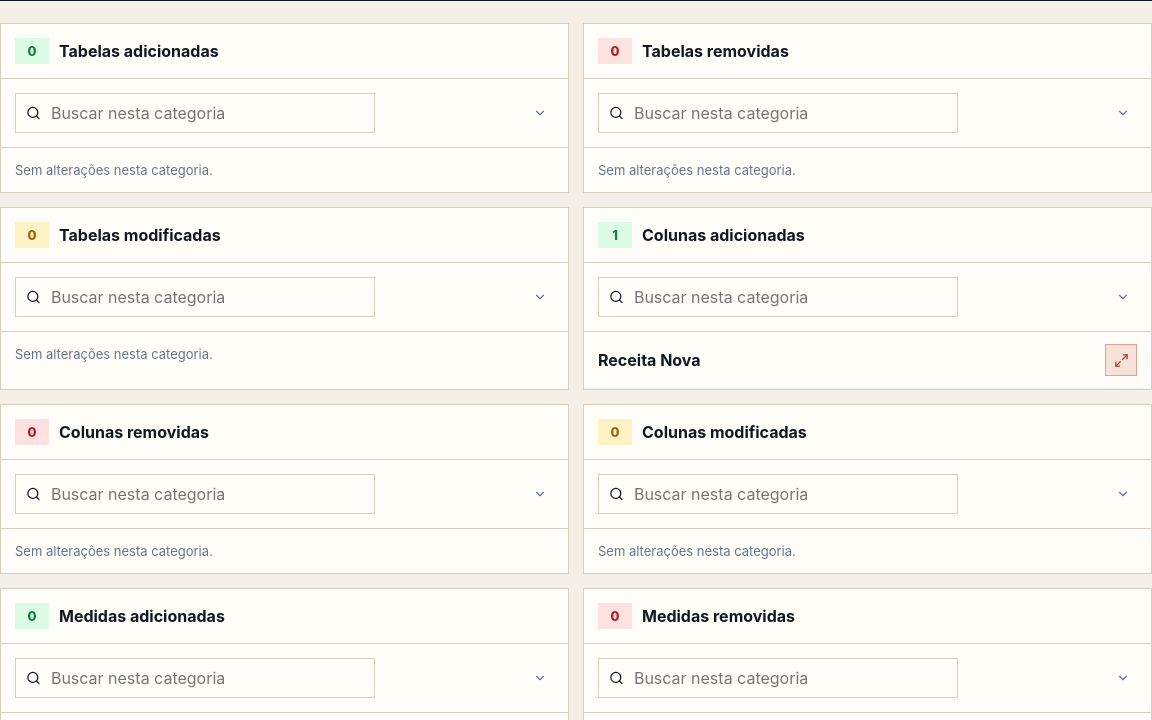
Scenario: CompareView › preserva o comportamento de categorias diferentes de Medidas
This screenshot has width=1152, height=720.
(page scrolled)
Expected: the list item "Receita Nova" is shown, [584,332,1151,389]
What coordinates should you click on to do the following:
click the button named "expandir detalhe"
I would click on:
 (1121, 360)
Its box is [1105,344,1137,376].
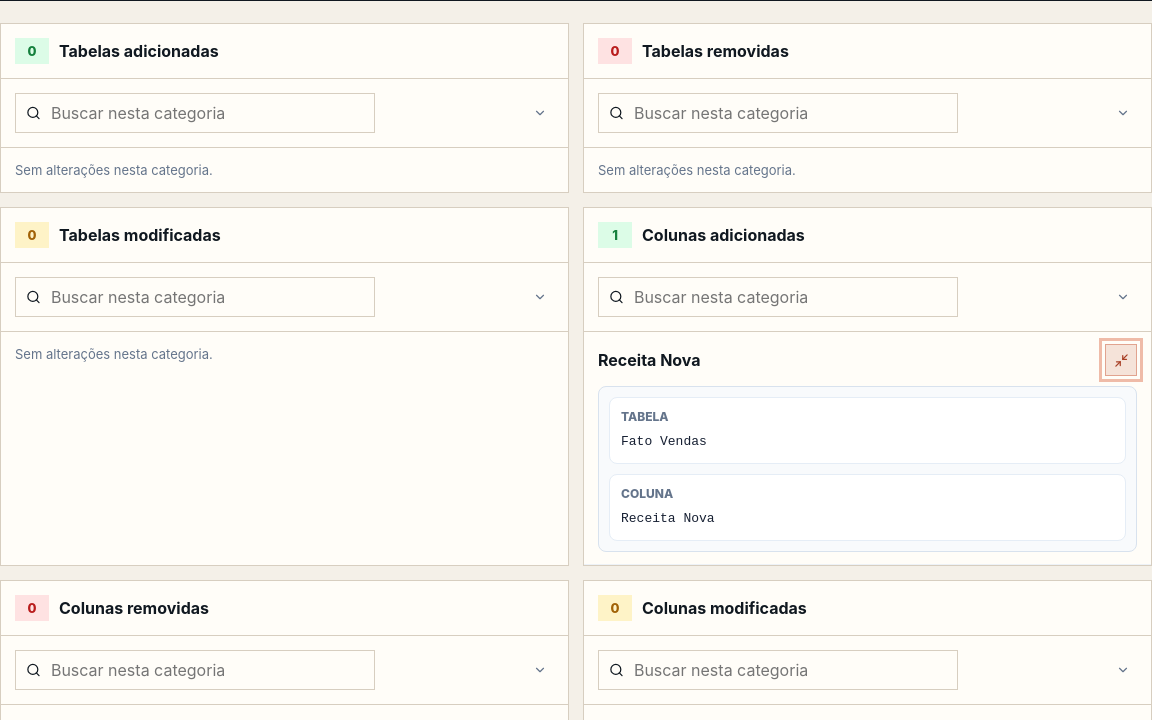
Result: the text "tabela" is shown at [621,409,669,424]
Result: the text "coluna" is shown at [621,486,673,501]
